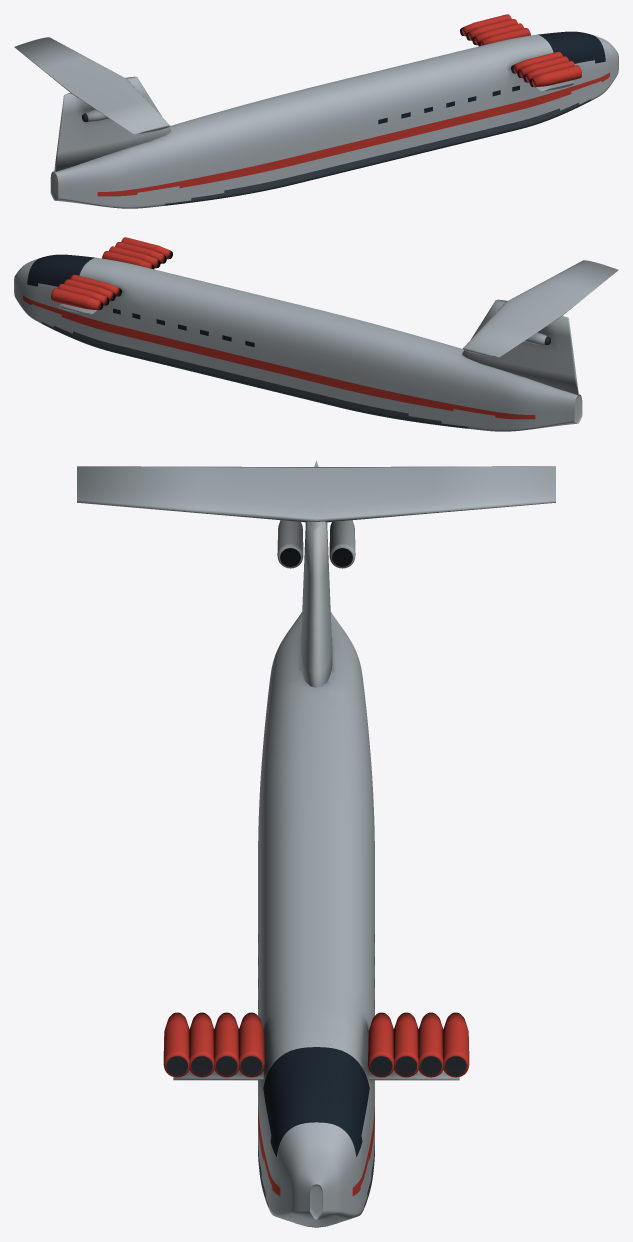
3 renders of one model, top to bottom at view 1: azimuth 30°, elevation 25°; view 2: azimuth 150°, elevation 25°; view 3: azimuth 270°, elevation 25°, orthographic. The views are drawn at different scales.
Visible parts, largest first — view 1: hull, stab, fin, eng3_1, eng0_2, eng1_2, eng1_1, eng0_1, eng3_2, eng2_1, eng2_2; view 2: hull, stab, fin, eng3_2, eng0_1, eng1_1, eng1_2, eng0_2, eng3_1, eng2_2, eng2_1; view 3: hull, stab, fin, eng3_1, eng3_2, eng0_1, eng0_2, eng2_1, eng2_2, eng1_1, eng1_2, stub.
Boxes of the visible parts, bbox=[...] form: hull: bbox=[50, 31, 618, 208]; stab: bbox=[14, 37, 170, 134]; fin: bbox=[54, 76, 170, 172]; eng3_1: bbox=[532, 65, 581, 87]; eng0_2: bbox=[480, 28, 530, 45]; eng1_2: bbox=[474, 23, 523, 45]; eng1_1: bbox=[519, 56, 568, 78]; eng0_1: bbox=[513, 51, 562, 73]; eng3_2: bbox=[462, 14, 511, 36]; eng2_1: bbox=[525, 60, 575, 82]; eng2_2: bbox=[468, 19, 517, 40]; hull: bbox=[14, 254, 582, 431]; stab: bbox=[462, 260, 618, 357]; fin: bbox=[462, 299, 578, 395]; eng3_2: bbox=[51, 288, 100, 310]; eng0_1: bbox=[102, 251, 152, 268]; eng1_1: bbox=[109, 246, 158, 268]; eng1_2: bbox=[64, 279, 113, 301]; eng0_2: bbox=[70, 274, 119, 296]; eng3_1: bbox=[121, 237, 170, 259]; eng2_2: bbox=[57, 283, 107, 305]; eng2_1: bbox=[115, 242, 164, 263]; hull: bbox=[258, 612, 374, 1227]; stab: bbox=[77, 466, 555, 522]; fin: bbox=[300, 460, 332, 687]; eng3_1: bbox=[163, 1013, 189, 1077]; eng3_2: bbox=[443, 1013, 469, 1077]; eng0_1: bbox=[239, 1013, 264, 1077]; eng0_2: bbox=[368, 1013, 393, 1077]; eng2_1: bbox=[189, 1013, 214, 1077]; eng2_2: bbox=[418, 1013, 443, 1077]; eng1_1: bbox=[214, 1013, 238, 1077]; eng1_2: bbox=[394, 1013, 418, 1077]; stub: bbox=[173, 1070, 459, 1080].
Bounding box in the file's own units: 0.9993 × 0.2407 × 0.3678.
